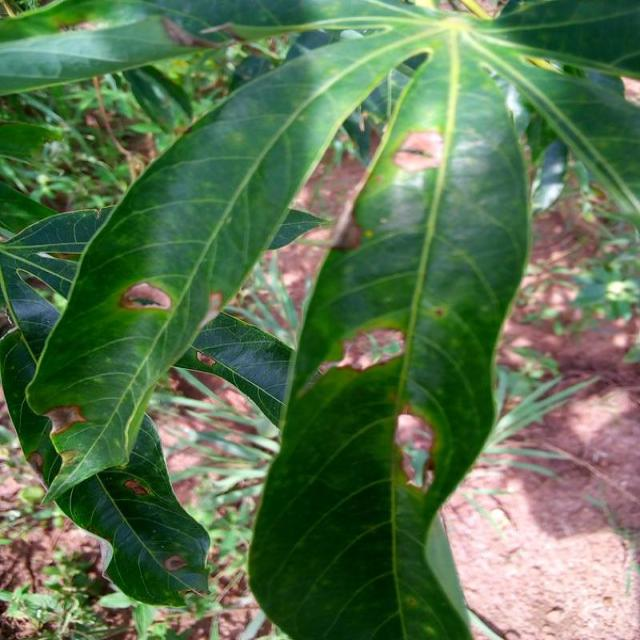cassava leaf: (3, 1, 638, 635), (245, 21, 532, 637)
